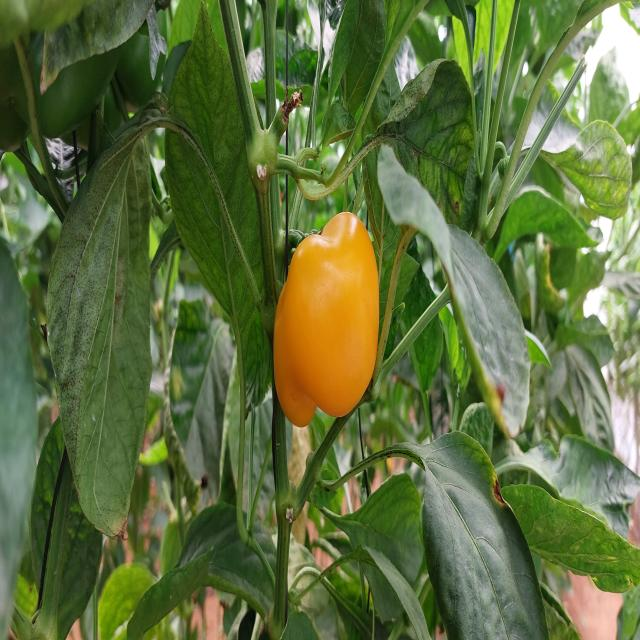Yellow-Ready-to-Harvest: (273, 209, 380, 428)
